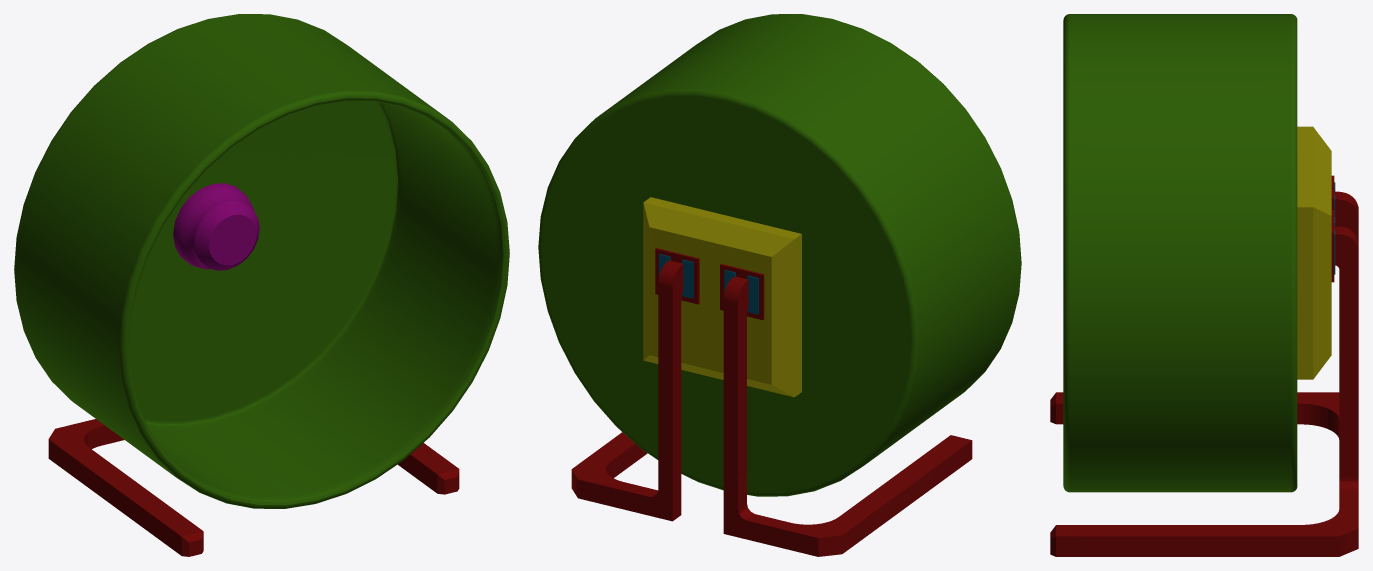
The model's file is SM_RoueRat.fbx.
3 views of the same model, side by side, from view 1: azimuth 30°, elevation 25°; view 2: azimuth 150°, elevation 25°; view 3: azimuth 270°, elevation 25° (orthographic). The views are drawn at different scales.
Parts seen in each view (by area): view 1: polySurface9; view 2: polySurface9; view 3: polySurface9.
Boxes of the visible parts, bbox=[...] form: polySurface9: bbox=[14, 14, 509, 556]; polySurface9: bbox=[538, 14, 1021, 556]; polySurface9: bbox=[1050, 14, 1358, 556].
Bounding box in the file's own units: 100 × 103 × 64.37.
